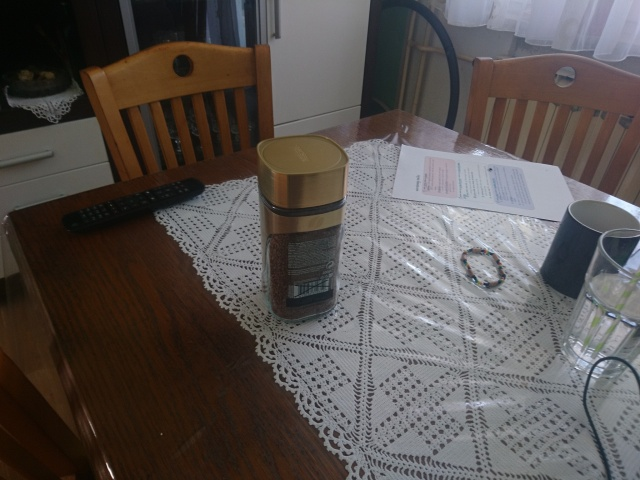Nescafe Gold 225g: (253, 132, 352, 325)
